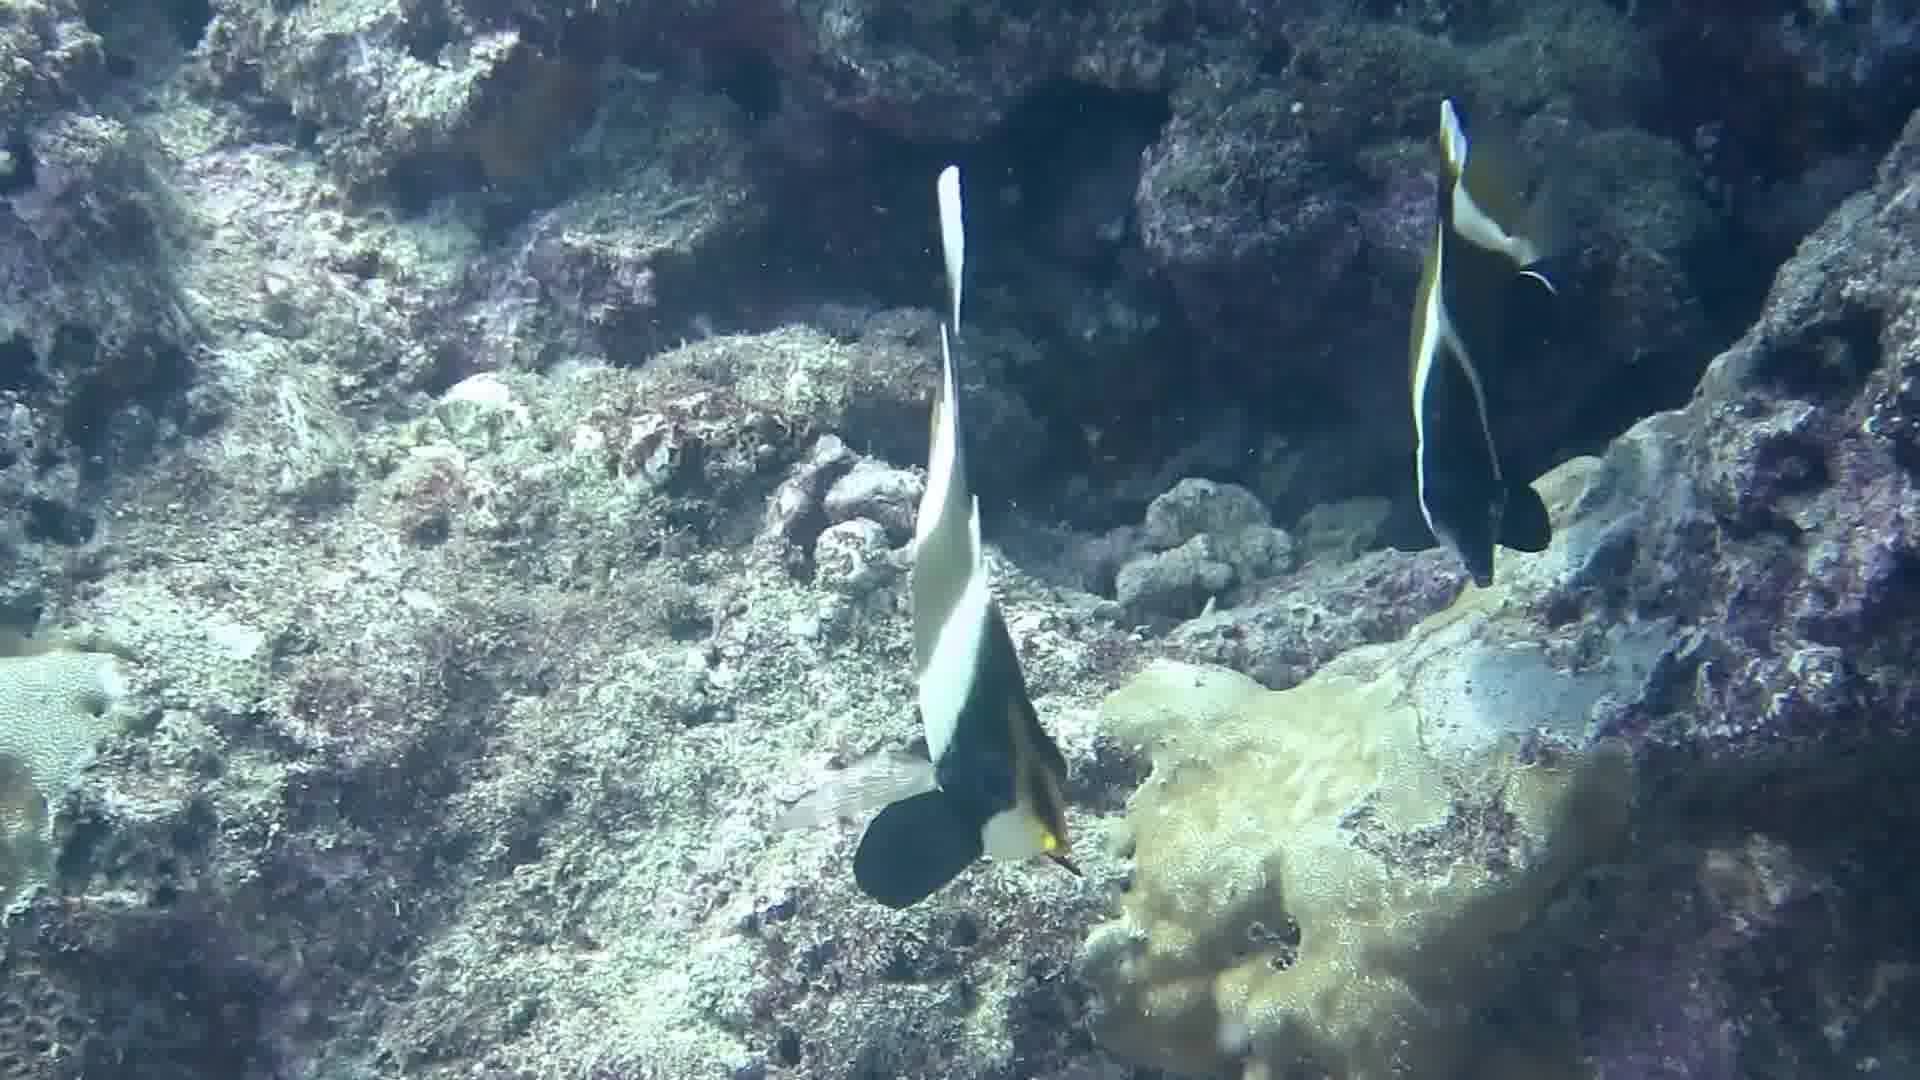Heniochus chrysostomus: (749, 136, 1215, 920), (1331, 25, 1633, 704)
